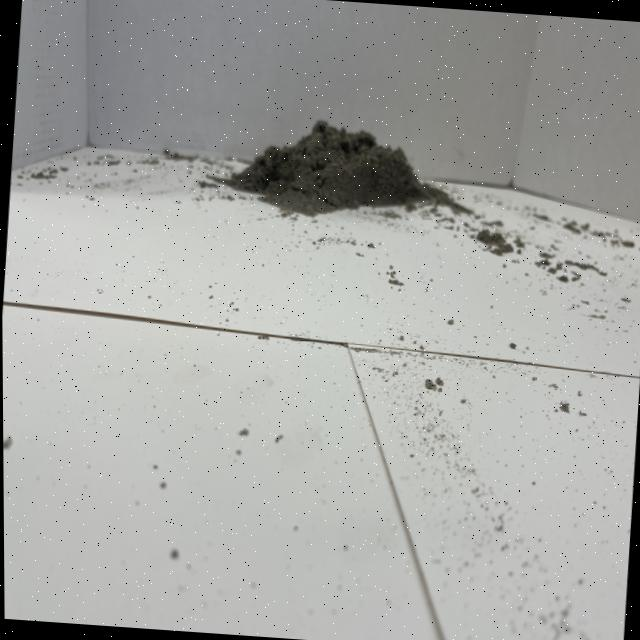sand: (188, 75, 520, 258)
